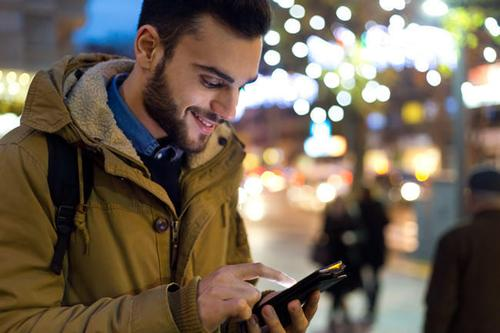reading: (199, 251, 354, 332)
